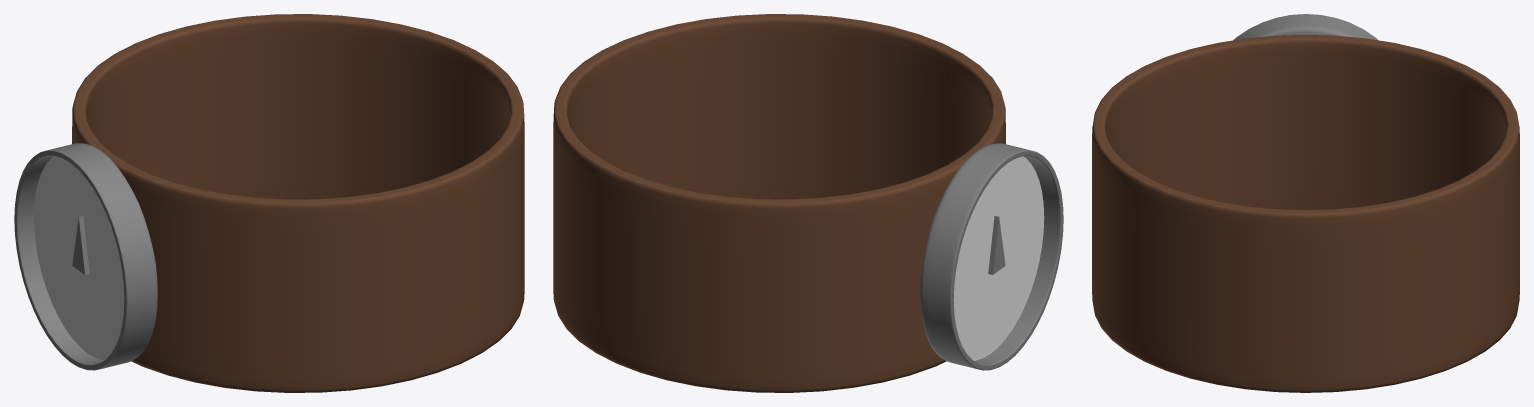
The model's file is watch.fbx.
The picture shows the model from 3 angles, left to right: view 1: azimuth 30°, elevation 25°; view 2: azimuth 150°, elevation 25°; view 3: azimuth 270°, elevation 25°; orthographic projection. The views are drawn at different scales.
Visible parts, largest first — view 1: Cylinder, Cube; view 2: Cylinder, Cube; view 3: Cylinder.
Part boxes in pixels (box(x1,y1,x2,y2)): Cylinder: box(14, 14, 524, 392); Cube: box(72, 216, 89, 274); Cylinder: box(553, 14, 1063, 392); Cube: box(988, 216, 1005, 274); Cylinder: box(1092, 14, 1519, 392).
Size of the model in its own units: 205 by 94.39 by 189.
